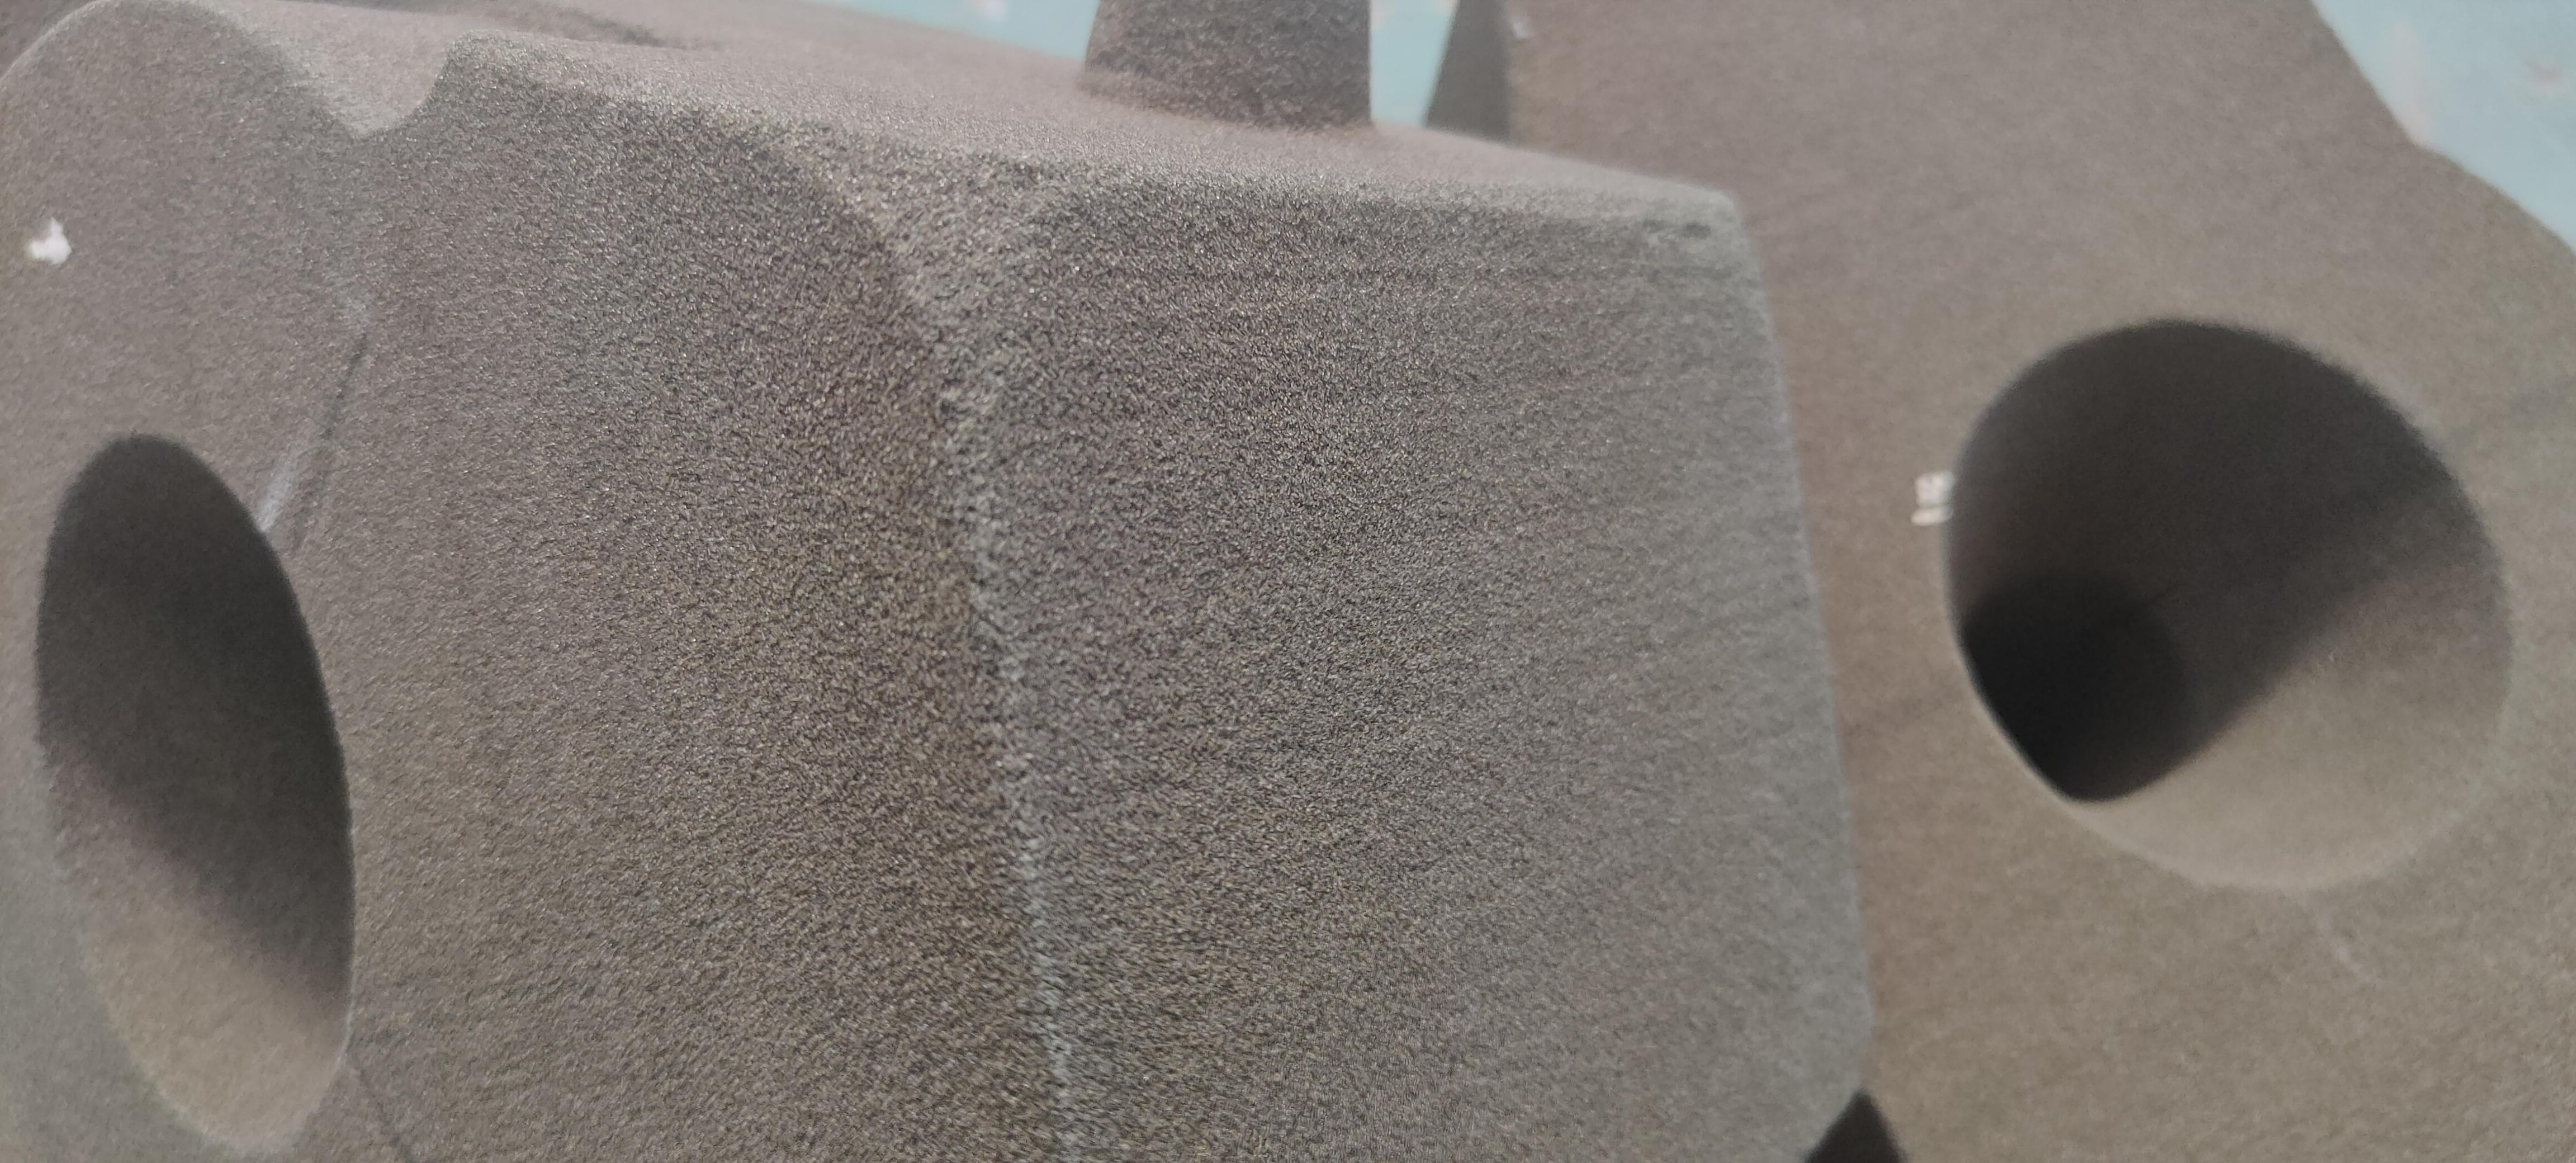pouring hole: (1944, 317, 2510, 889), (34, 437, 363, 1153)
